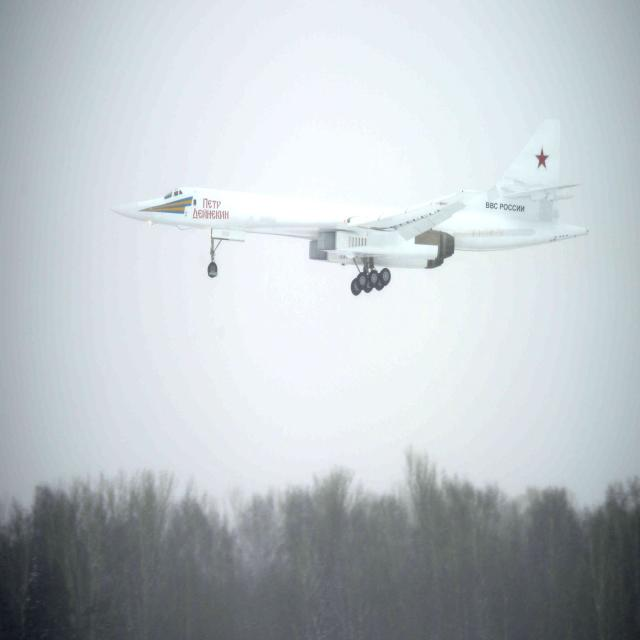MIL_Plane: (107, 120, 588, 296)
